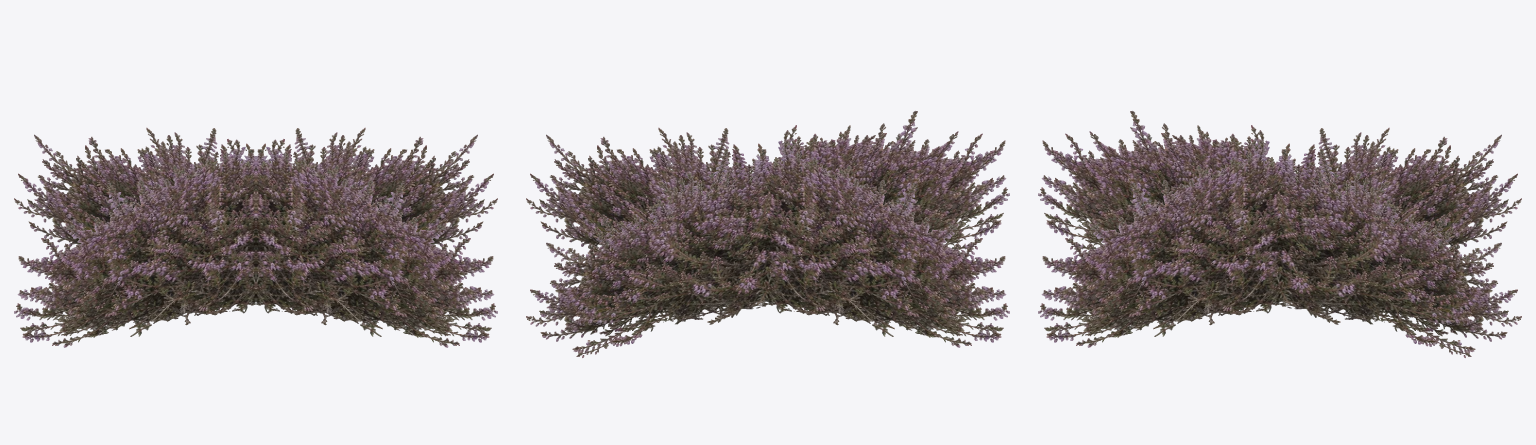
The model's file is heather_clump.glb.
3 views of the same model, side by side, from view 1: azimuth 30°, elevation 25°; view 2: azimuth 150°, elevation 25°; view 3: azimuth 270°, elevation 25° (orthographic).
Visible parts, largest first — view 1: heather_clump; view 2: heather_clump; view 3: heather_clump.
Part boxes in pixels (x1,y1,x2,y2): heather_clump: [14, 127, 497, 347]; heather_clump: [526, 111, 1009, 357]; heather_clump: [1038, 111, 1521, 357].
Size of the model in its own units: 1.4 by 0.5 by 1.21.
1 material, 1 textured.
